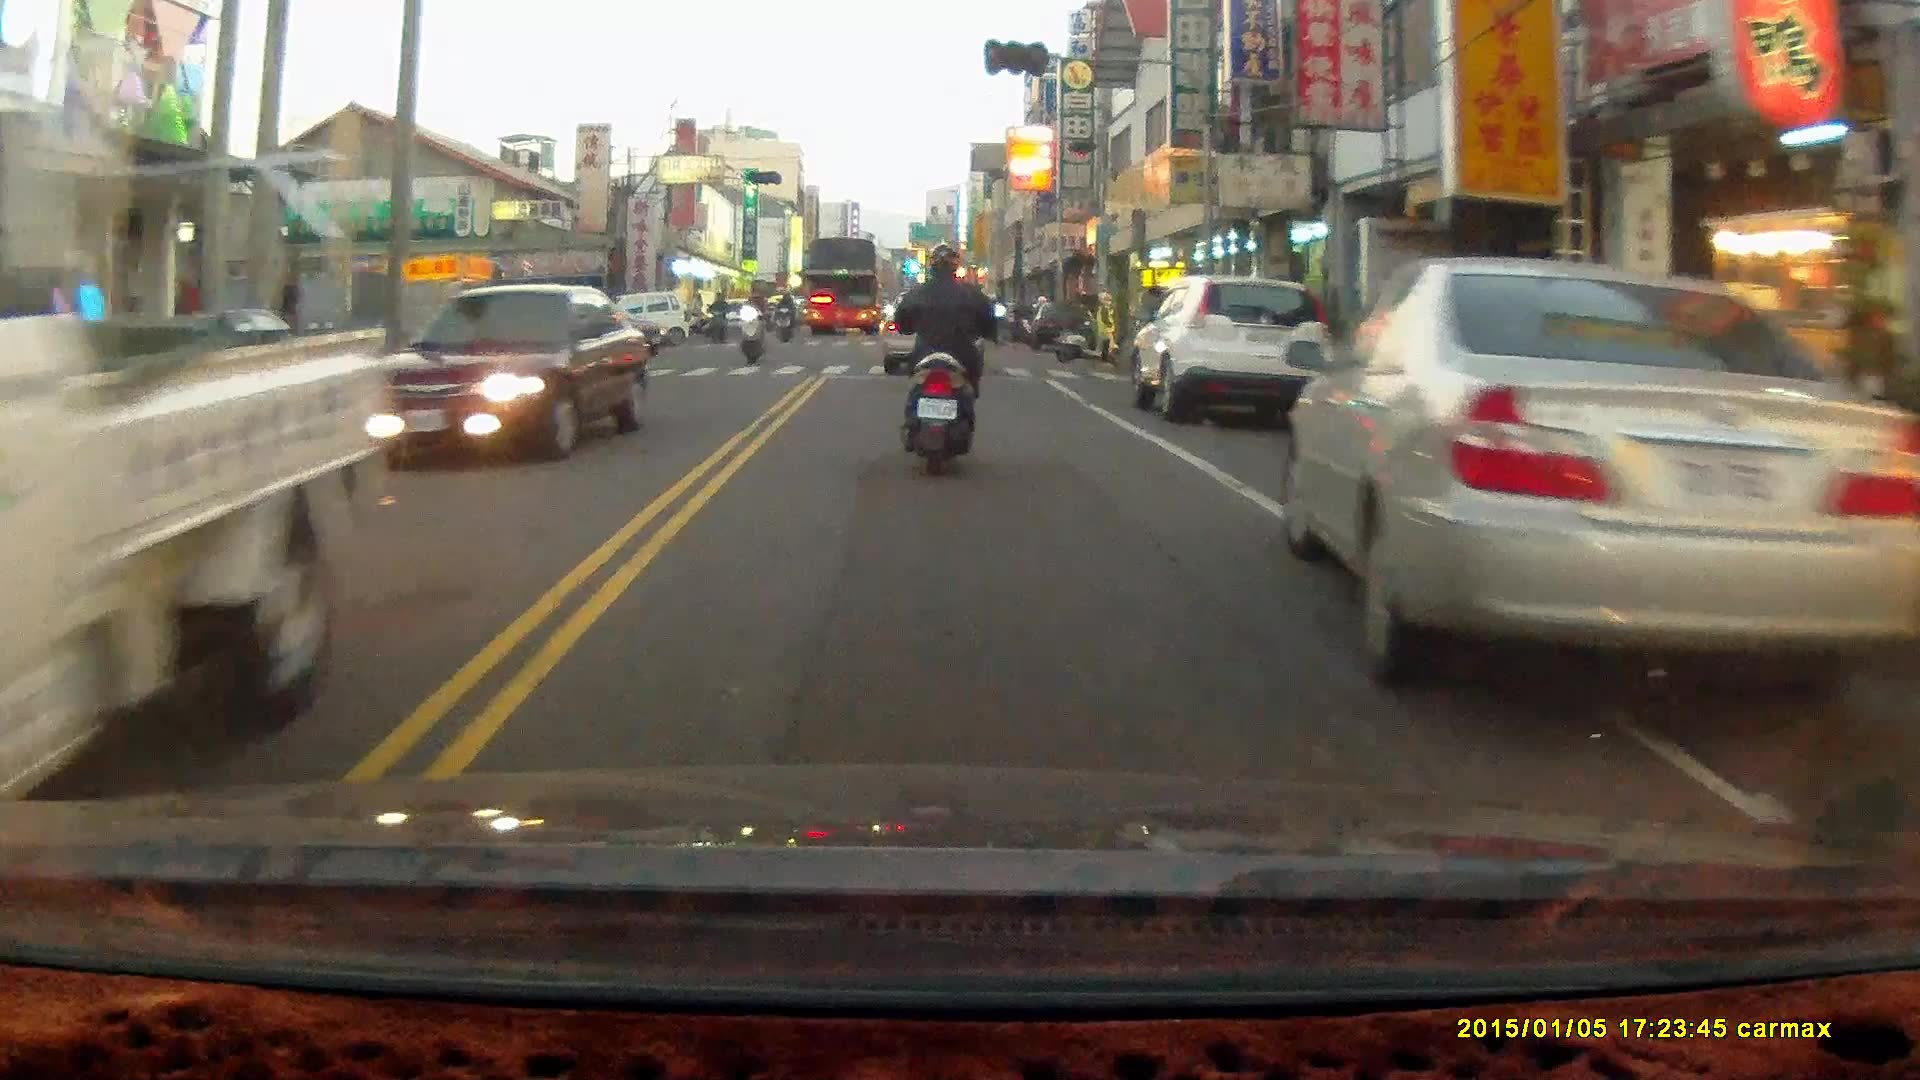pedestrian: (1092, 289, 1117, 368)
rider: (889, 242, 1007, 478), (736, 284, 768, 363), (706, 289, 728, 345), (775, 288, 795, 347)
vehicle: (1284, 257, 1920, 691), (335, 283, 661, 472), (1135, 276, 1319, 423), (802, 240, 887, 339)
